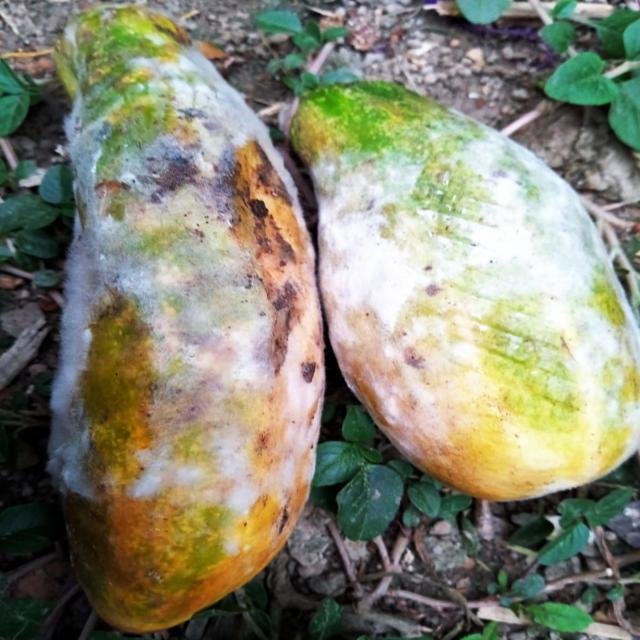Pythium-Fruit-Rot: (44, 27, 326, 526), (308, 109, 640, 458)
